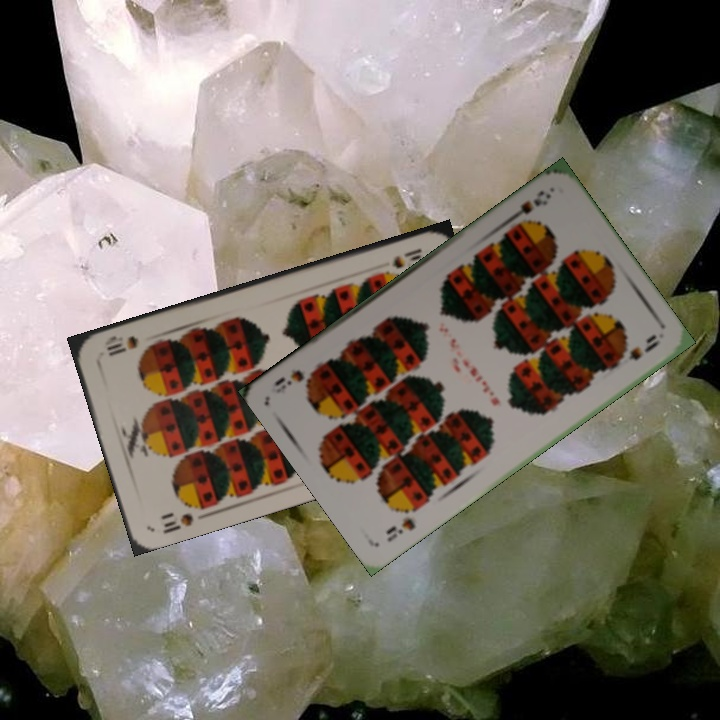S10: (159, 509, 196, 537), (387, 244, 424, 271)
S9: (503, 186, 554, 226), (382, 513, 419, 545)
